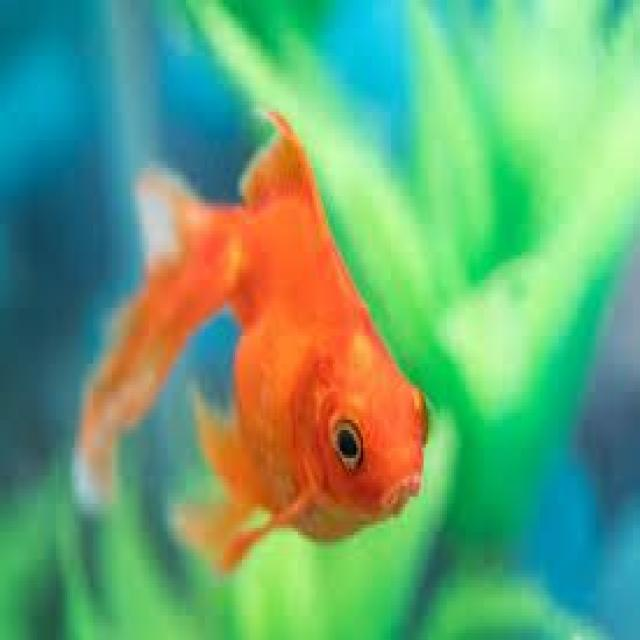Gold-Fish: (53, 85, 463, 614)
